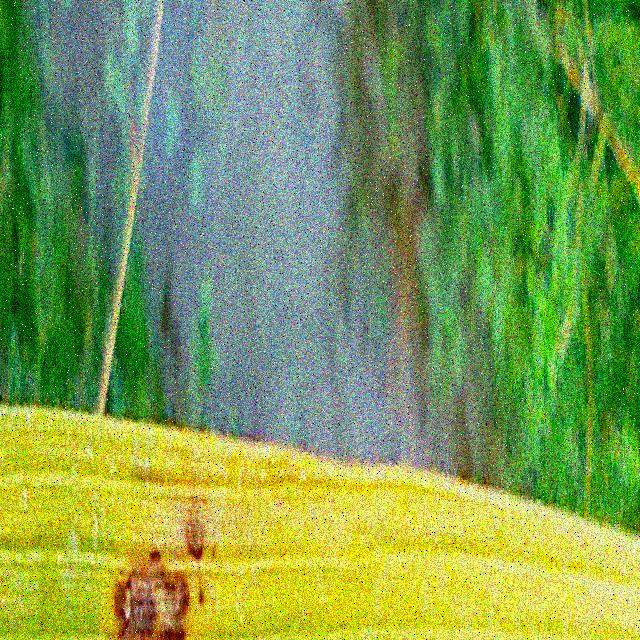NBS: (187, 516, 204, 559), (198, 585, 206, 610), (211, 540, 217, 568)
